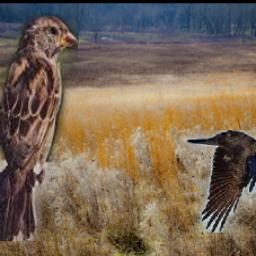Crow: (188, 130, 256, 233)
Sparrow: (0, 13, 78, 241)
